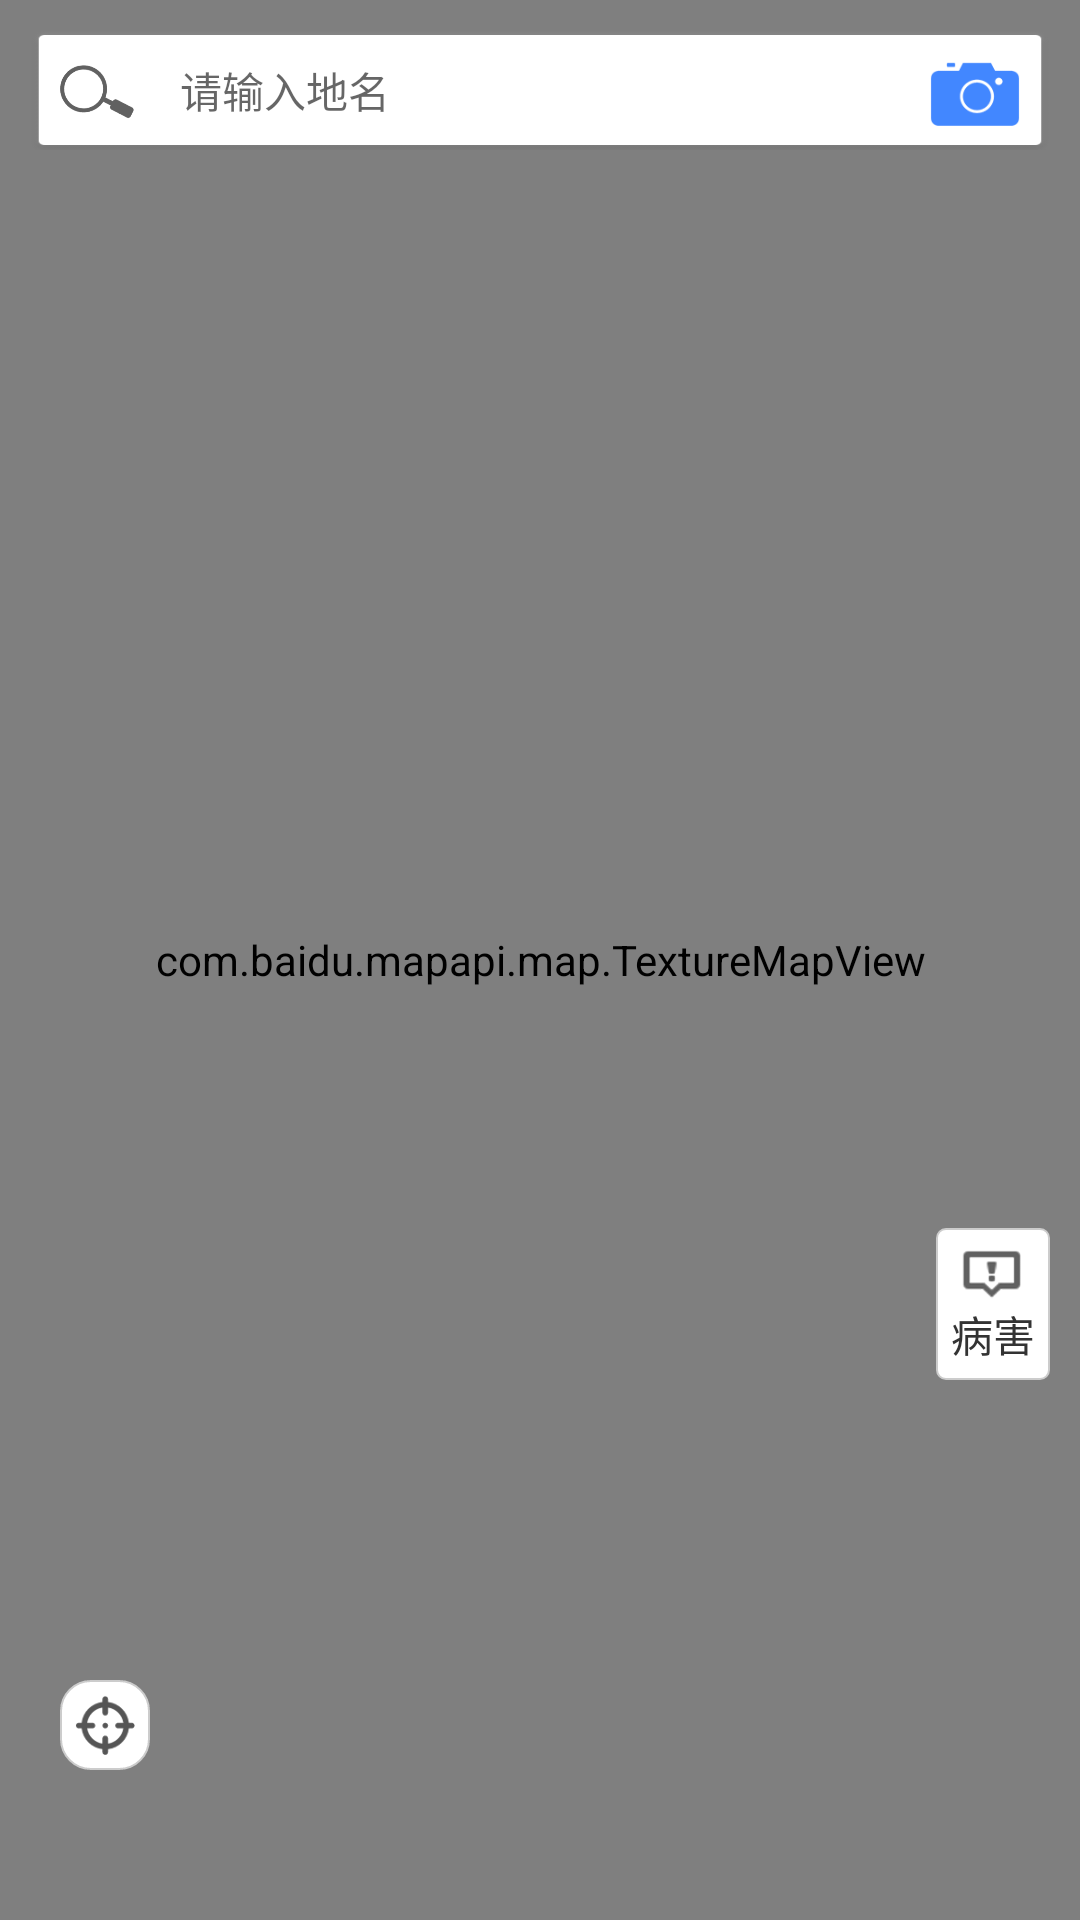

Icons on this 1080x1920 Android screen, each with the point to tap as (x,y):
camero: (975,94)
mylocation: (105,1725)
search: (97,91)
tanhao: (992,1274)
